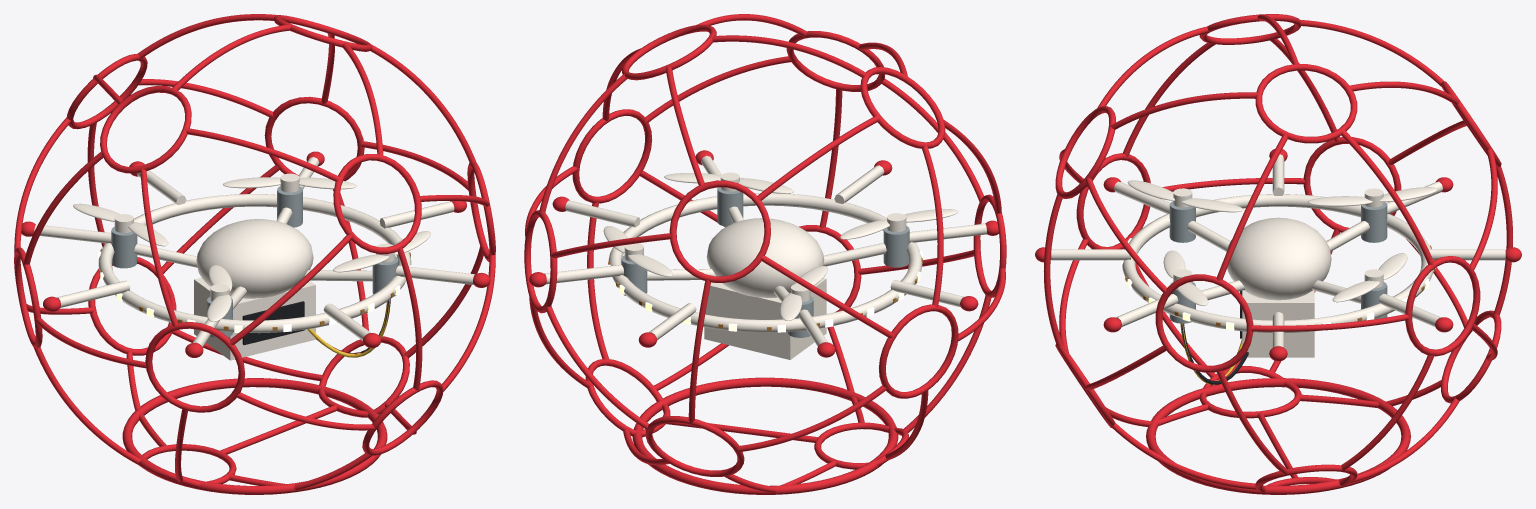
File: drone.glb
3 renders of one model, left to right at view 1: azimuth 30°, elevation 25°; view 2: azimuth 150°, elevation 25°; view 3: azimuth 270°, elevation 25°, orthographic.
Parts seen in each view (by area): view 1: Circular openings and curved ribs, Ivory canopy, Circular LED carrier, Structural spokes and arms, Flat landing rim, Battery cradle, Motor can (×3), Propeller blade (×2), Battery opening; view 2: Circular openings and curved ribs, Structural spokes and arms, Circular LED carrier, Ivory canopy, Flat landing rim, Battery cradle, Motor can (×3), Propeller blade (×2); view 3: Circular openings and curved ribs, Structural spokes and arms, Ivory canopy, Circular LED carrier, Flat landing rim, Battery cradle, Motor can (×2), Propeller blade (×3).
Part boxes in pixels (x1,y1,x2,y2): Circular openings and curved ribs: (14,14,495,489); Ivory canopy: (196,219,313,298); Circular LED carrier: (98,194,411,333); Structural spokes and arms: (34,157,475,346); Flat landing rim: (122,378,387,494); Battery cradle: (194,277,315,360); Motor can (×3): (111,186,398,296); Propeller blade (×2): (223,177,389,272); Battery opening: (242,301,304,345); Circular openings and curved ribs: (524,14,1006,492); Structural spokes and arms: (544,155,986,346); Circular LED carrier: (608,193,922,332); Ivory canopy: (706,218,824,297); Flat landing rim: (632,377,898,494); Battery cradle: (704,278,826,359); Motor can (×3): (621,187,909,295); Propeller blade (×2): (628,219,889,276); Circular openings and curved ribs: (1043,14,1512,492); Structural spokes and arms: (1051,154,1505,347); Ivory canopy: (1226,217,1331,300); Circular LED carrier: (1122,194,1433,332); Flat landing rim: (1146,378,1410,494); Battery cradle: (1242,290,1314,357); Motor can (×2): (1169,201,1387,242); Propeller blade (×3): (1181,196,1379,302).
Size of the model in its own units: 0.2016 by 0.1847 by 0.2016.
